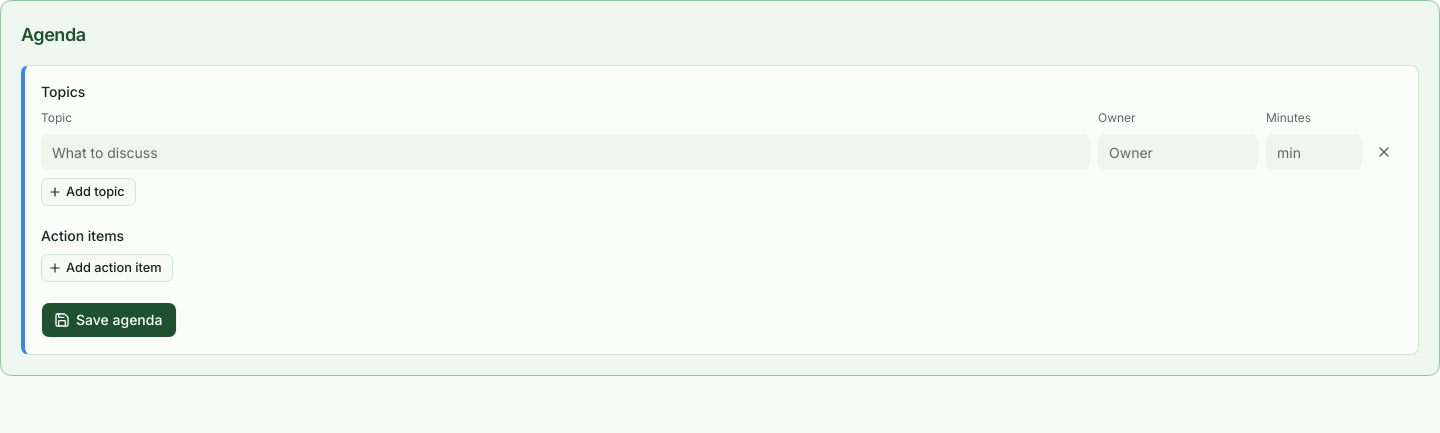
Scenario: AgendaForm › needs at least one topic
This screenshot has width=1440, height=433.
Step 1. Click the button "Save agenda" → x=109, y=320, box [41,302,177,338]
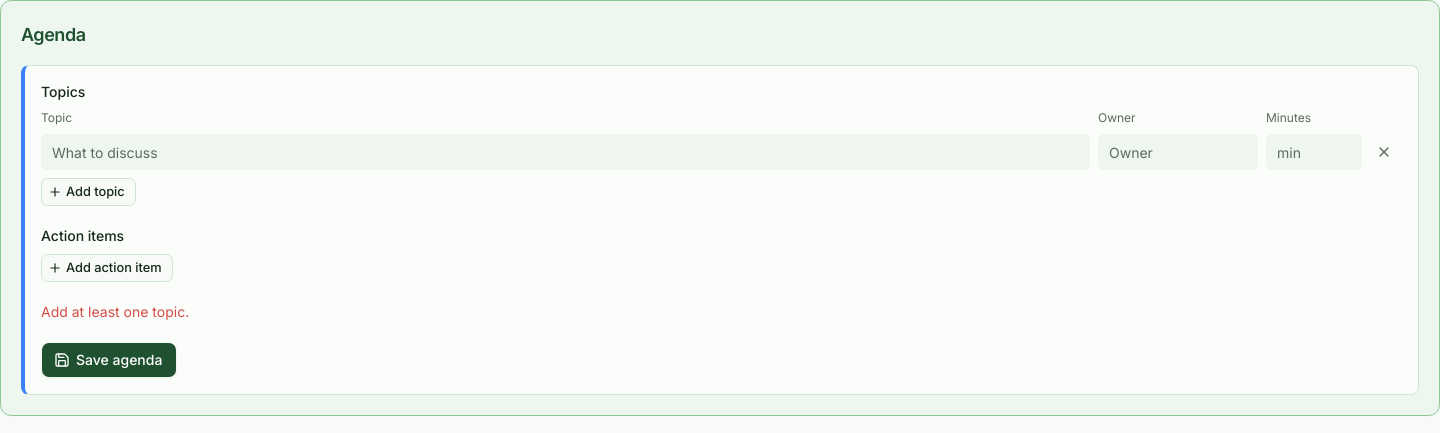
Check: the message shows "at least one topic", box [41,303,189,320]
